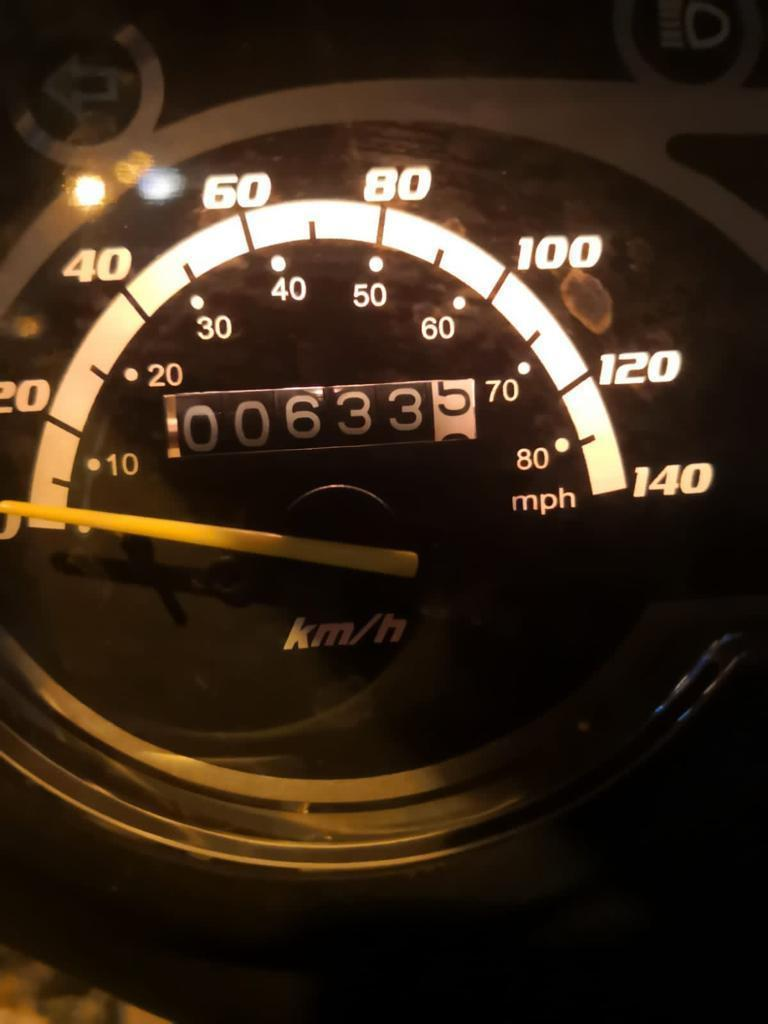0: (181, 401, 221, 454), (232, 397, 271, 451)
3: (333, 387, 374, 438), (385, 384, 425, 433)
5: (434, 377, 472, 417)
6: (282, 391, 324, 442)
odometer: (156, 376, 480, 463)
